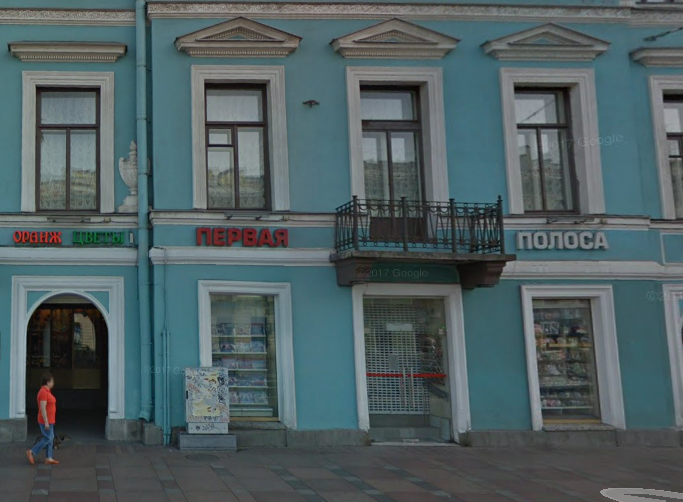arch: (24, 283, 116, 440)
signboard: (185, 220, 294, 247), (512, 225, 609, 251), (10, 226, 127, 246)
window: (531, 293, 605, 424), (211, 295, 281, 417), (516, 84, 581, 214), (36, 86, 102, 208), (359, 83, 420, 214), (206, 85, 270, 208)
